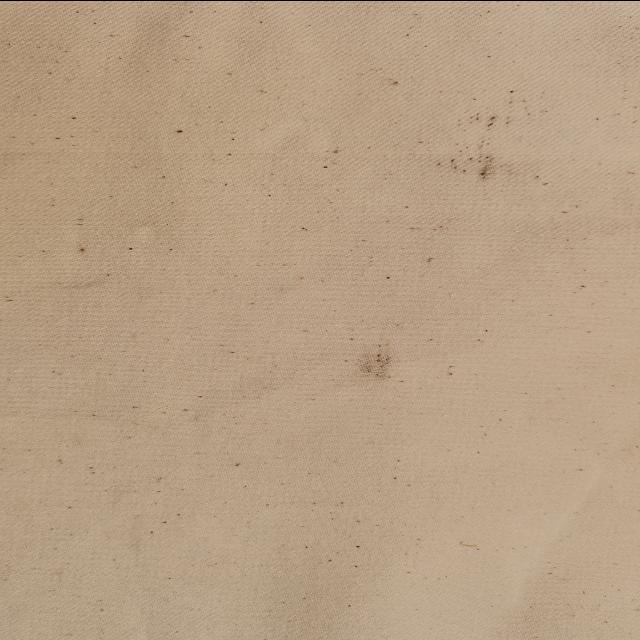taaaches: (342, 340, 406, 380), (437, 151, 507, 179), (466, 106, 520, 134)
